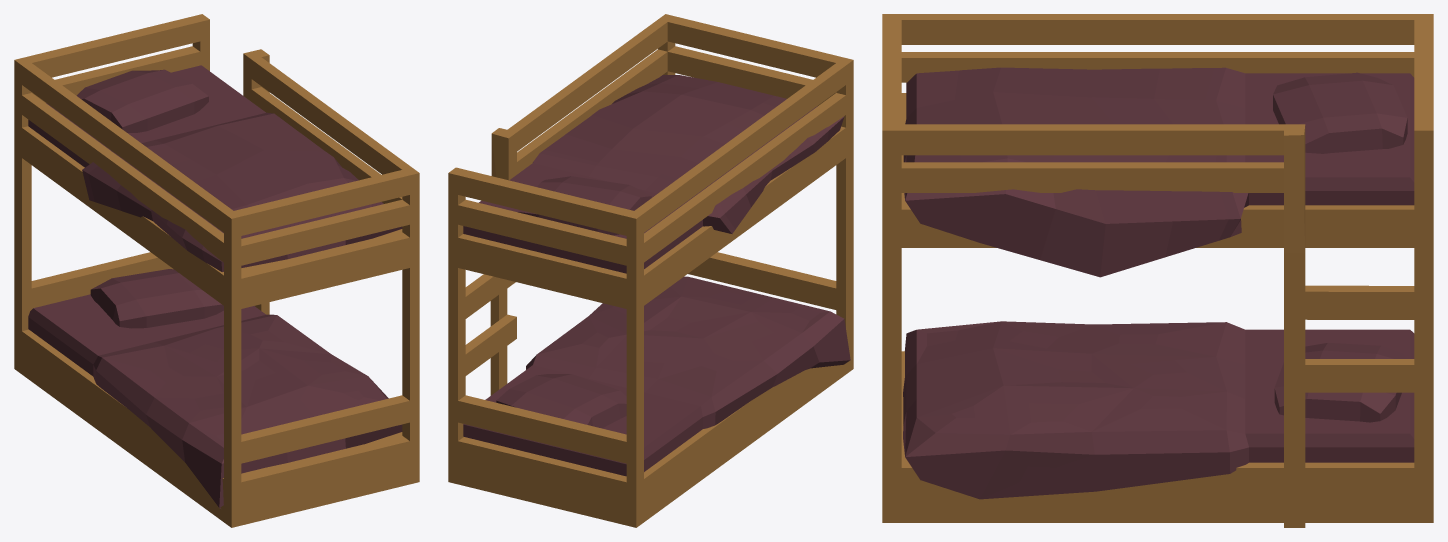
Rendered from bed-bunk-kids-old.fbx.
3 renders of one model, left to right at view 1: azimuth 30°, elevation 25°; view 2: azimuth 150°, elevation 25°; view 3: azimuth 270°, elevation 25°, orthographic. The views are drawn at different scales.
Parts seen in each view (by area): view 1: bed-bunk-kids-old; view 2: bed-bunk-kids-old; view 3: bed-bunk-kids-old.
Boxes of the visible parts, box(x1,y1,x2,y2) form: bed-bunk-kids-old: box(14, 14, 419, 527); bed-bunk-kids-old: box(448, 14, 853, 527); bed-bunk-kids-old: box(882, 14, 1433, 527).
Size of the model in its own units: 1.15 by 1.57 by 2.
